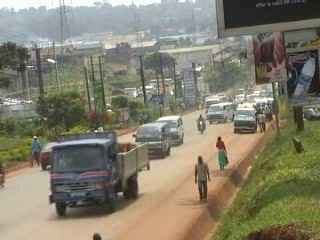Car: (39, 138, 59, 172)
Motorcycle: (0, 159, 8, 190), (193, 117, 207, 134)
